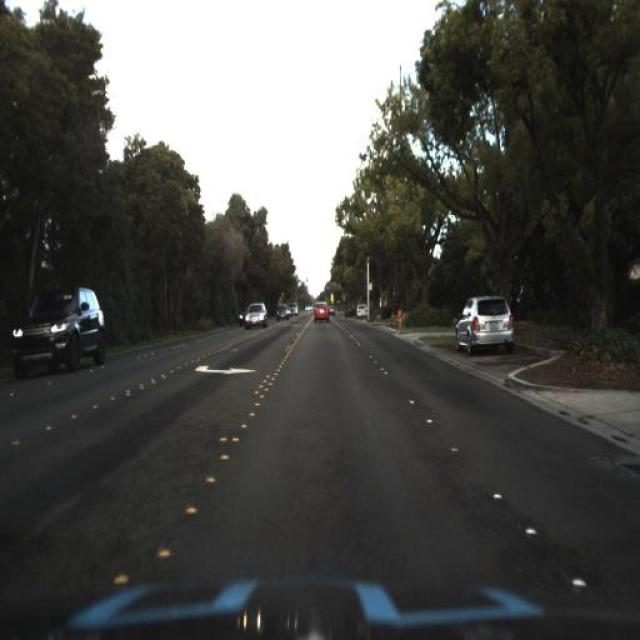car: (10, 286, 108, 380), (448, 286, 522, 370), (308, 298, 334, 332), (242, 300, 269, 330), (244, 300, 265, 330), (273, 300, 291, 326), (351, 299, 370, 322)
